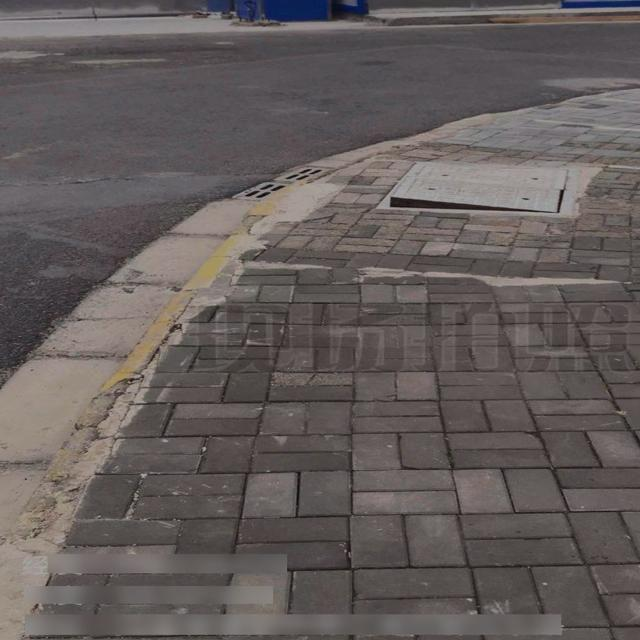uncovered: (370, 161, 584, 217)
